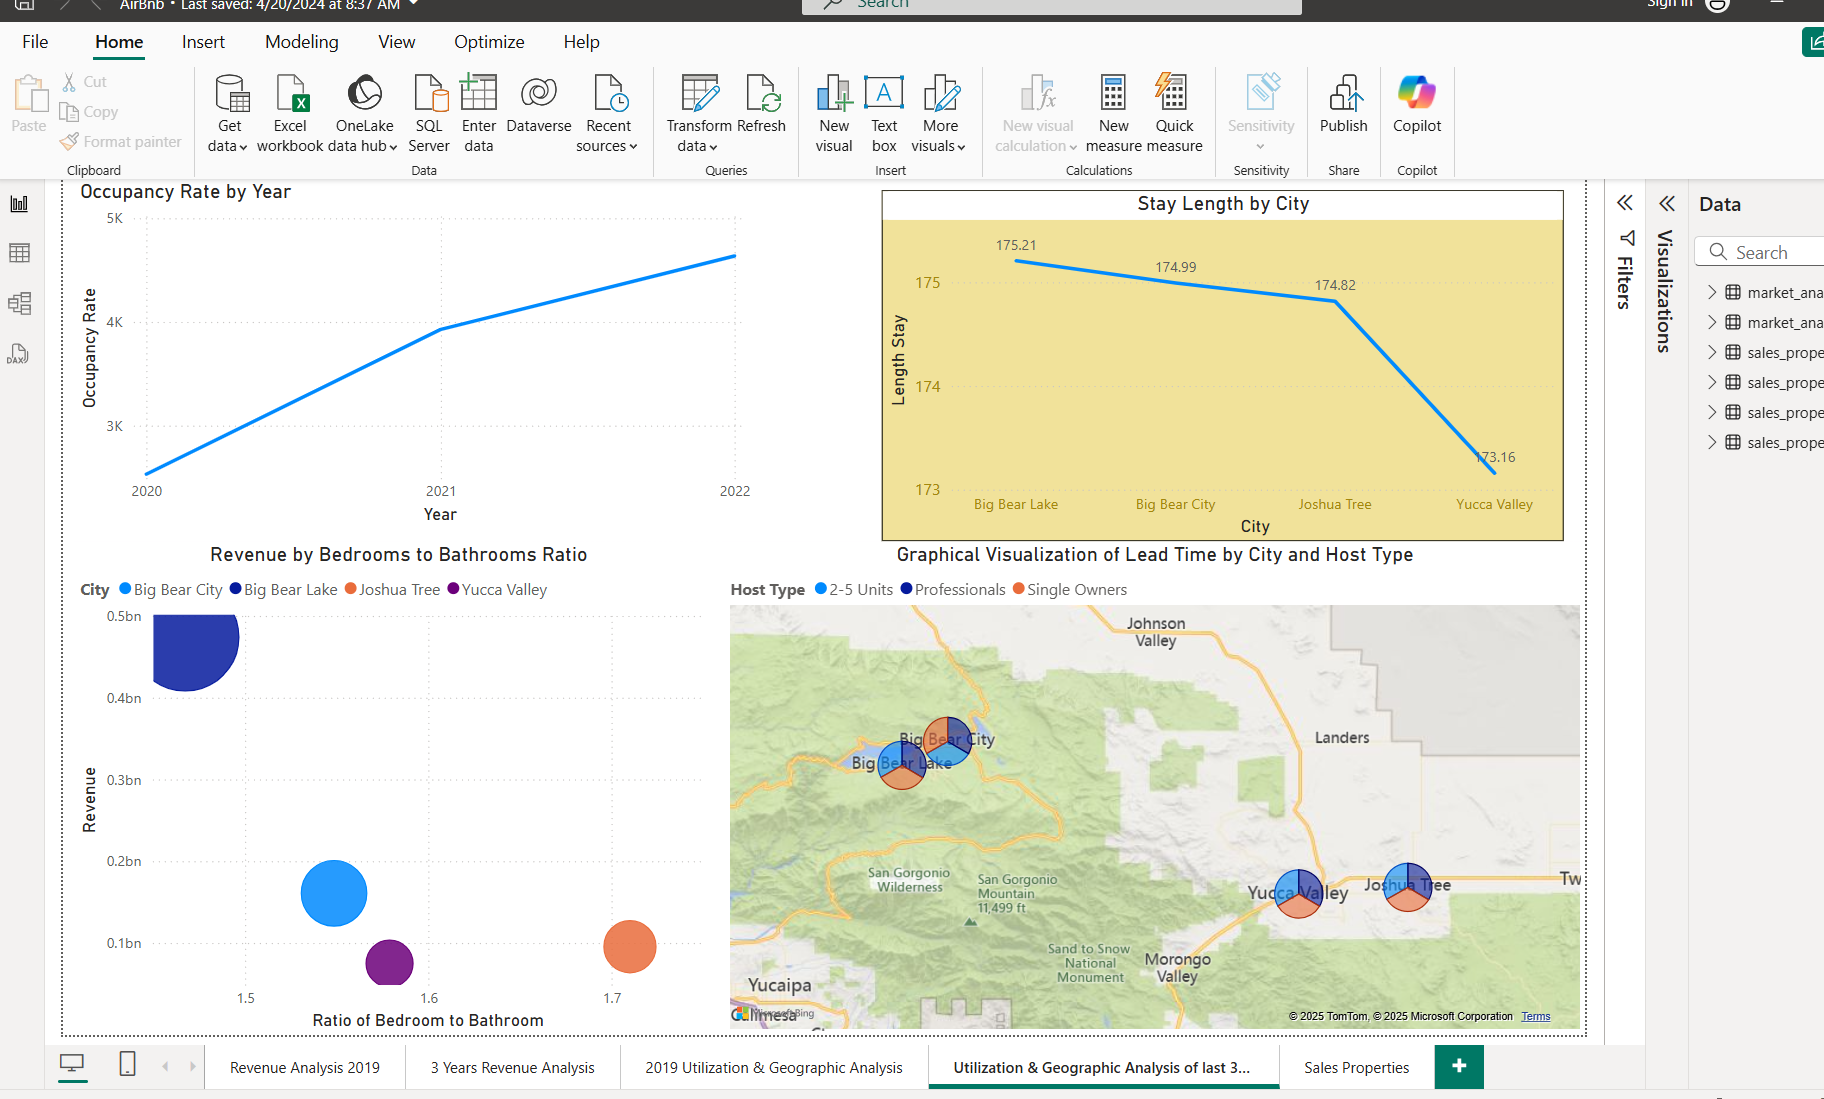

The page's visual inventory and layout, read from the dashboard file:
{"tool":"powerbi","page":{"name":"Utilization & Geographic Analysis of last 3 Years","canvas":[1280,720],"ordinal":3},"visuals":[{"type":"lineChart","fields":{"Y":["Sum(market_analysis.occupancy)"],"Category":["market_analysis.month.Variation.Date Hierarchy.Year"]},"box":[9.6,0,573.6,295],"z":0},{"type":"lineChart","title":"Stay Length by City","fields":{"Category":["market_analysis.city"],"Y":["Avg(market_analysis.length stay)"]},"box":[688.9,9.6,573.6,295],"z":1000},{"type":"scatterChart","title":"Revenue by Bedrooms to Bathrooms Ratio ","fields":{"X":["Avg(market_analysis.BedbyBath)"],"Category":["market_analysis.city"],"Y":["Sum(market_analysis.revenue)"],"Series":["market_analysis.city"],"Size":["Sum(market_analysis.revenue)"]},"box":[9.6,304.6,546.1,415.8],"z":2000},{"type":"map","title":"Graphical Visualization of Lead Time by City and Host Type","fields":{"Category":["market_analysis.city"],"Size":["Avg(market_analysis.lead time)"],"Series":["market_analysis.host_type"]},"box":[555.7,304.6,725,416],"z":3000}]}

Visuals, with their boxes on the page's 1280x720 design canvas (x1, y1, x2, y2). These are canvas units, not pixel positions in the 1824x1099 screenshot, which may show the page scaled, cropped or inside an application window:
lineChart - Sum(market_analysis.occupancy) x market_analysis.month.Variation.Date Hierarchy.Year: [left=10, top=0, right=583, bottom=295]
"Stay Length by City" lineChart: [left=689, top=10, right=1262, bottom=305]
"Revenue by Bedrooms to Bathrooms Ratio " scatterChart: [left=10, top=305, right=556, bottom=720]
"Graphical Visualization of Lead Time by City and Host Type" map: [left=556, top=305, right=1281, bottom=721]
